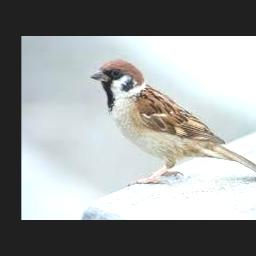Sparrow: (92, 58, 256, 184)
